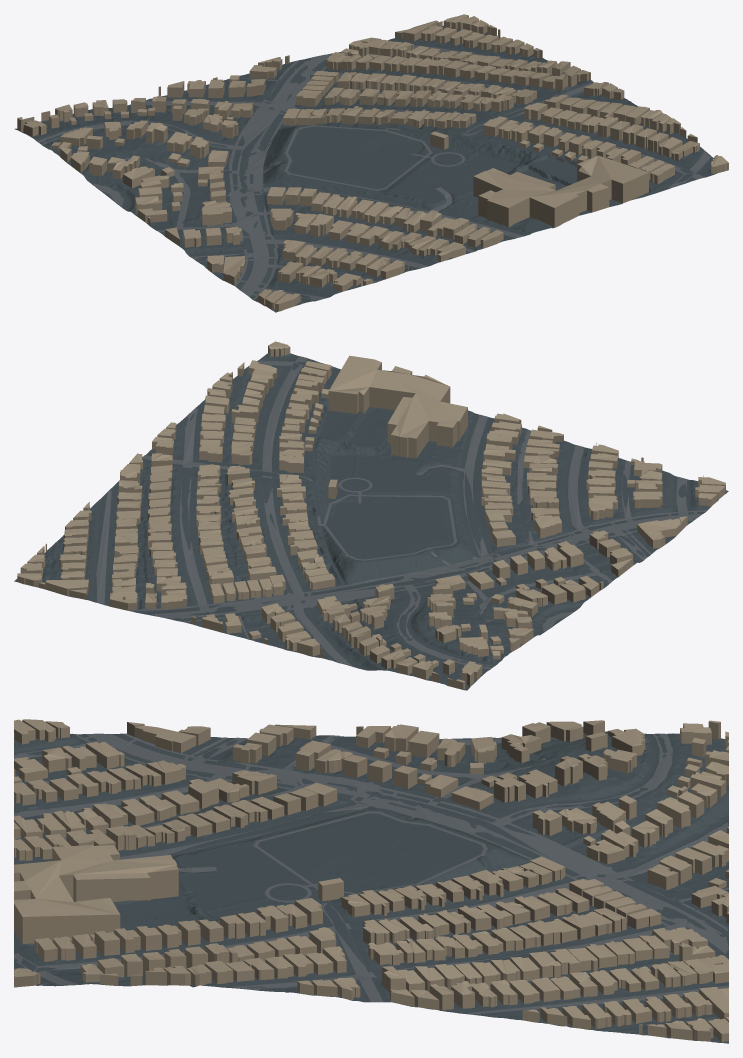
File: epsg26910-1424-10874.lod0.glb
The picture shows the model from 3 angles, top to bottom: view 1: azimuth 30°, elevation 25°; view 2: azimuth 150°, elevation 25°; view 3: azimuth 270°, elevation 25°; orthographic projection. The views are drawn at different scales.
Parts seen in each view (by area): view 1: epsg26910-1424-10874-lod0; view 2: epsg26910-1424-10874-lod0; view 3: epsg26910-1424-10874-lod0.
Part boxes in pixels (bbox=[...]): epsg26910-1424-10874-lod0: bbox=[14, 14, 728, 312]; epsg26910-1424-10874-lod0: bbox=[14, 341, 728, 690]; epsg26910-1424-10874-lod0: bbox=[14, 719, 728, 1043].
Bounding box in the file's own units: 384 × 47.28 × 384.
